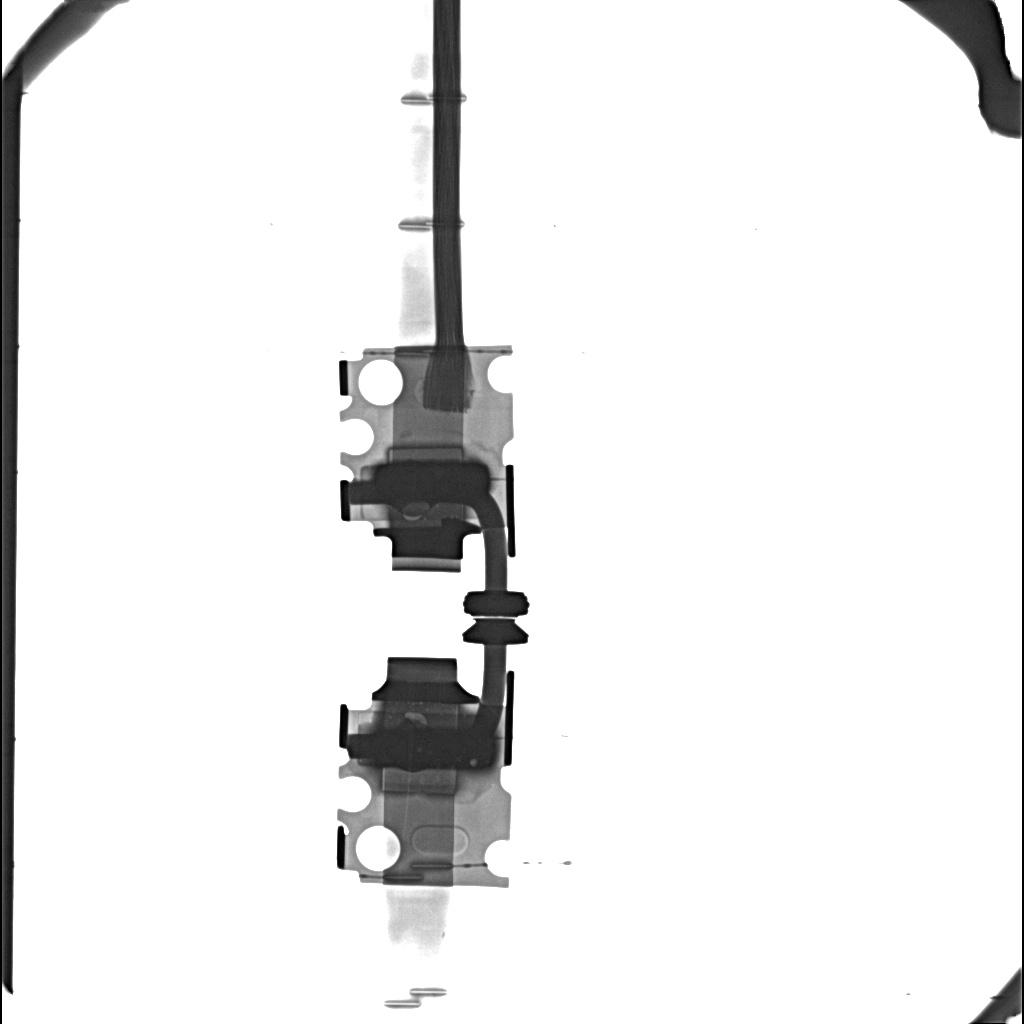气孔: (378, 770, 458, 796), (387, 445, 464, 461)
气泡: (405, 711, 426, 723), (404, 515, 423, 521)
水纹: (375, 721, 496, 771), (376, 461, 490, 506)
